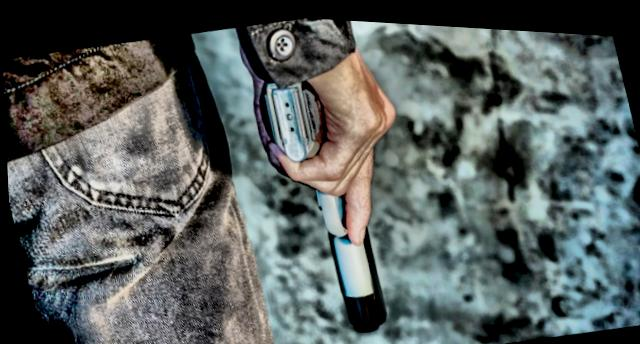pistol: (255, 57, 402, 339)
